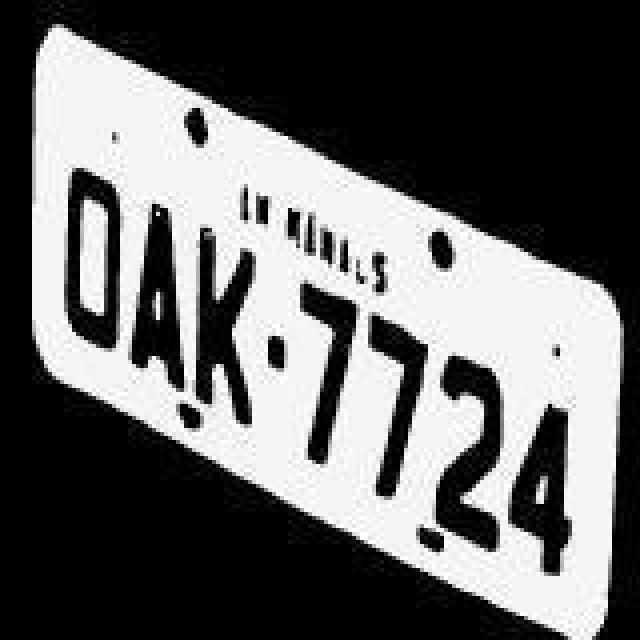2: (428, 352, 508, 560)
4: (504, 386, 584, 590)
7: (288, 276, 368, 476), (356, 314, 428, 510)
A: (118, 198, 186, 402)
K: (186, 222, 262, 434)
O: (50, 164, 126, 364)
